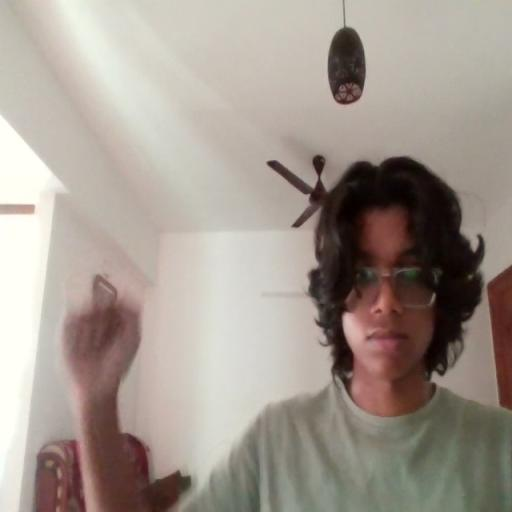Rock: (58, 291, 143, 382)
